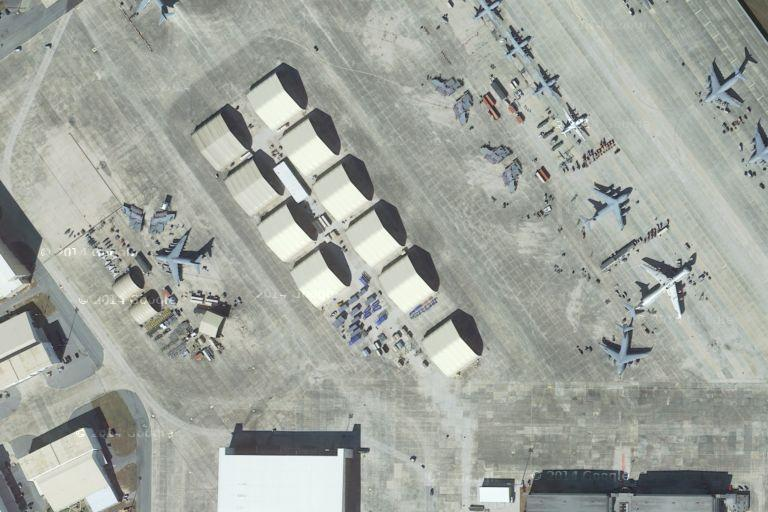C-130: (554, 103, 592, 141), (531, 62, 564, 105), (501, 26, 536, 64)
C-17: (598, 316, 651, 381), (150, 232, 206, 284), (698, 59, 748, 114), (584, 180, 636, 231)
E-8: (631, 251, 693, 318)
